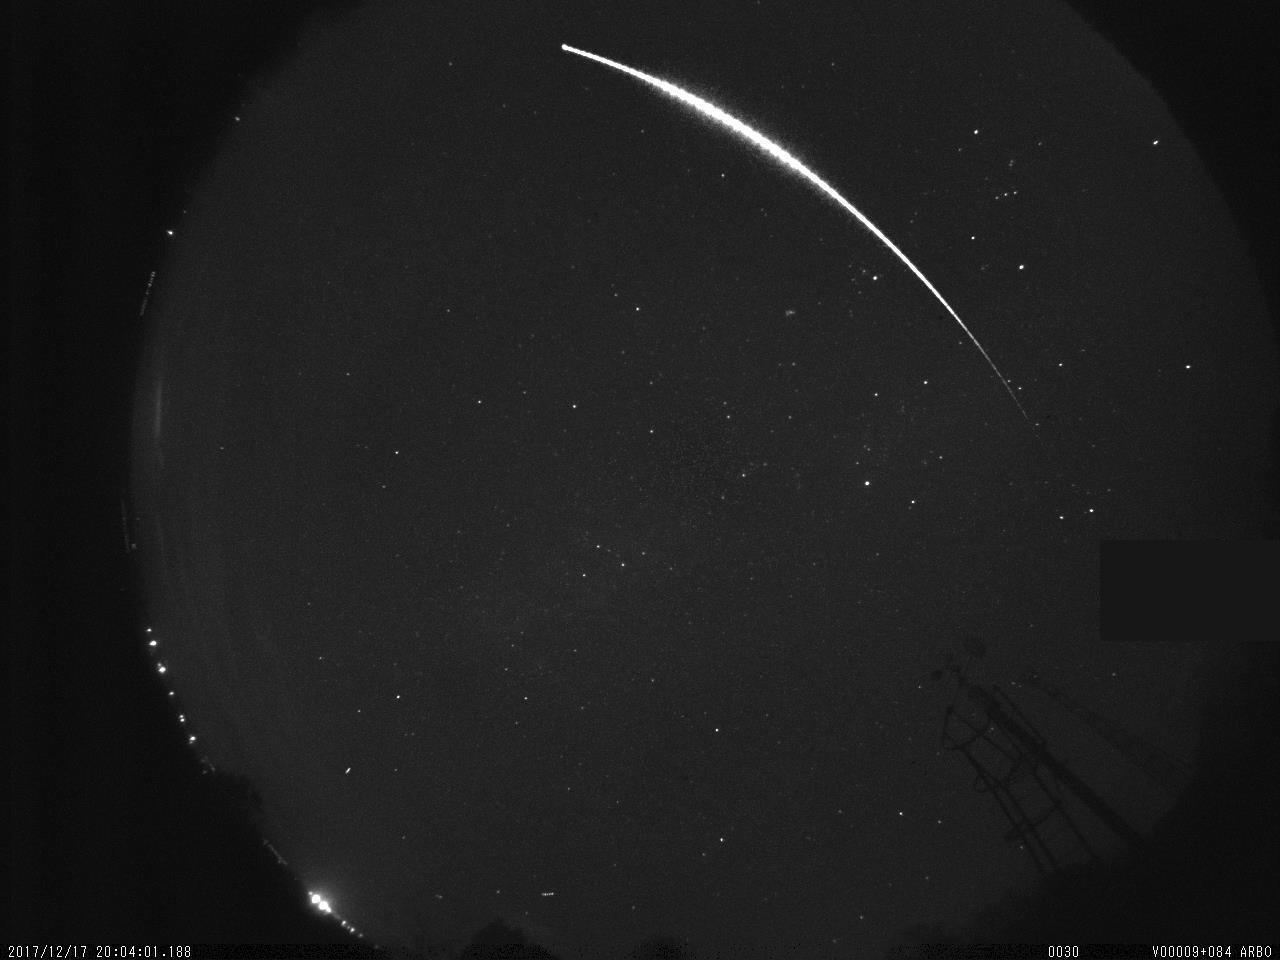Meteor: (549, 31, 1040, 429)
